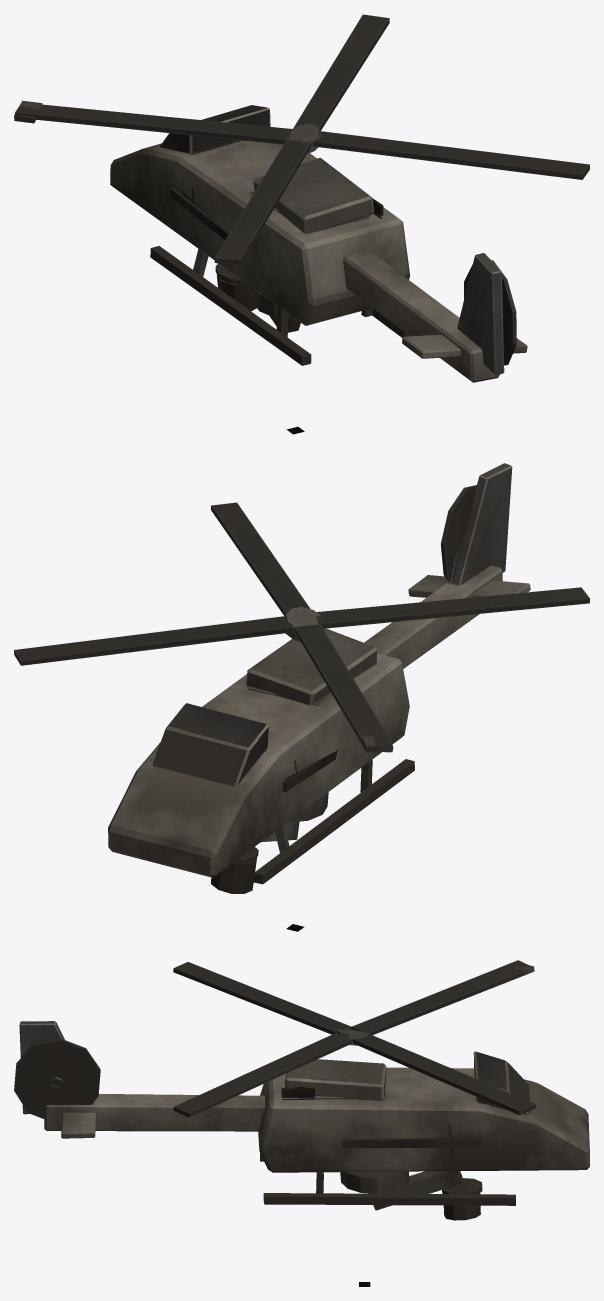
The model's file is ord_skywright_wreck.fbx.
3 views of the same model, one above another, from view 1: azimuth 30°, elevation 25°; view 2: azimuth 150°, elevation 25°; view 3: azimuth 270°, elevation 25° (orthographic). The views are drawn at different scales.
Visible parts, largest first — view 1: base_bar, rotor_bar, nano_bar, tailRotor_bar; view 2: base_bar, rotor_bar, nano_bar, tailRotor_bar; view 3: base_bar, rotor_bar, tailRotor_bar, nano_bar.
Part boxes in pixels (x1,y1,x2,y2): base_bar: (110,105,527,382); rotor_bar: (14,14,589,264); nano_bar: (215,263,300,332); tailRotor_bar: (464,260,516,365); base_bar: (108,463,530,884); rotor_bar: (14,502,589,752); nano_bar: (210,792,328,893); tailRotor_bar: (440,485,476,582); base_bar: (19,1021,589,1205); rotor_bar: (173,960,536,1117); tailRotor_bar: (14,1038,100,1119); nano_bar: (340,1171,482,1220).
Size of the model in its own units: 642 by 508 by 1014.
2 materials, 2 textured.
